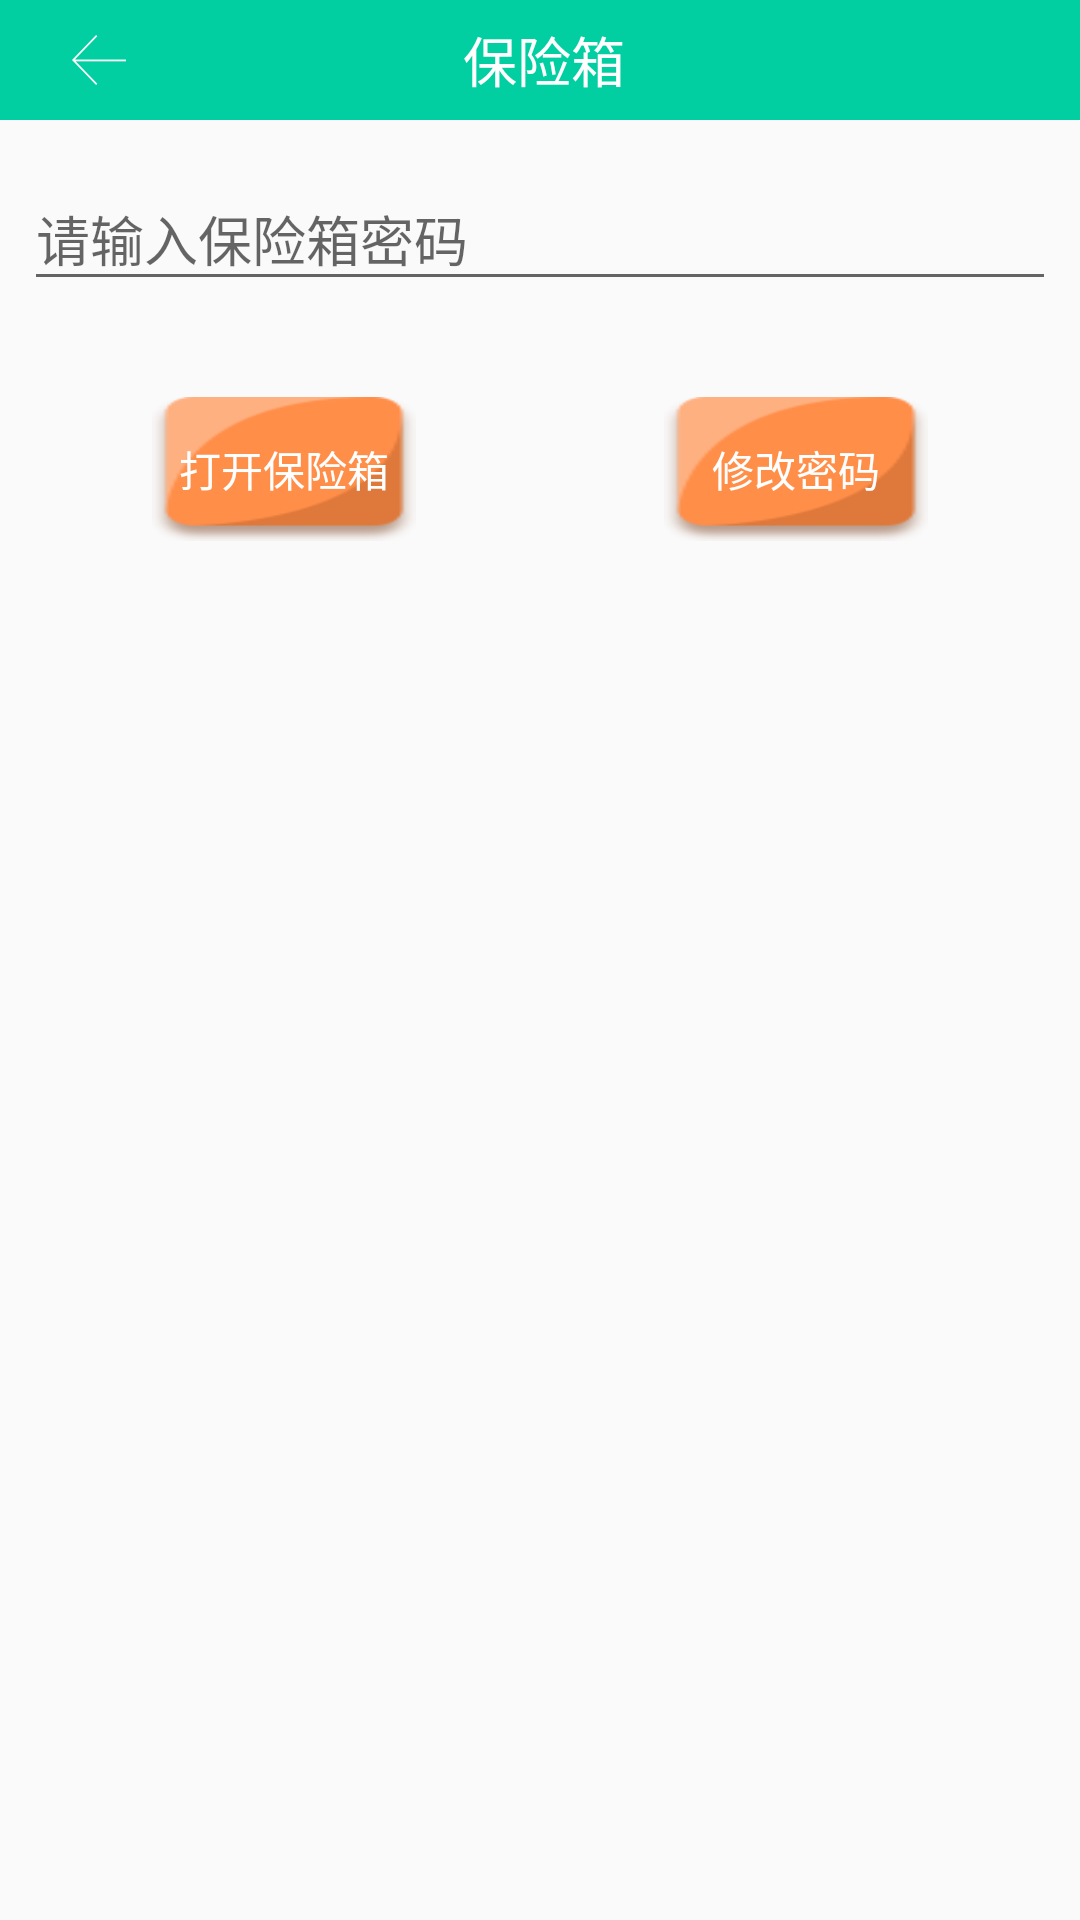

Where icons sit on this 1080 × 1920 app screen, as (x1=x1, y1=y1, x2=x2, y2=y2):
back: (x1=72, y1=35, x2=126, y2=85)
